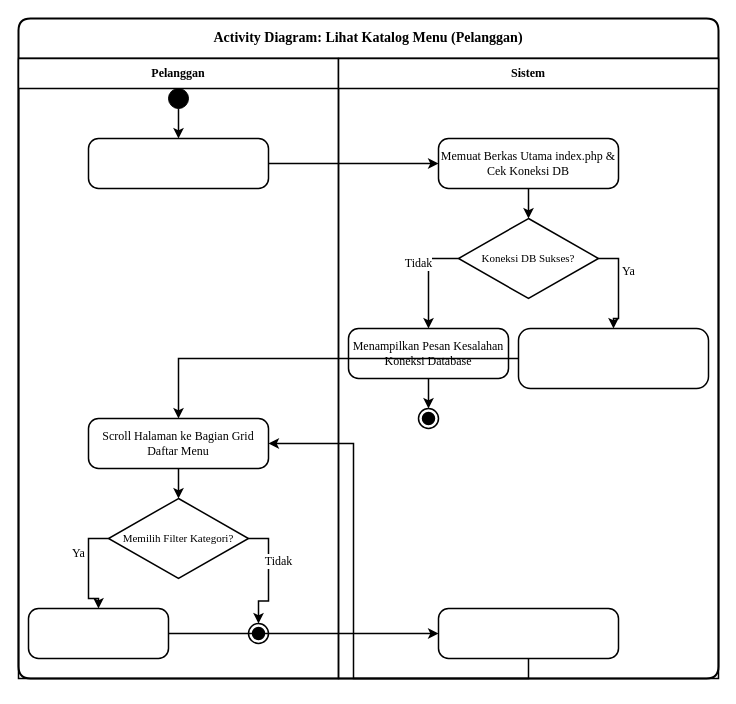
This 736x704 diagram has some shape labels left out. Here are the shapes that lost their labels. From the top down, the centre of each, then its label:
(178,163): Mengakses Alamat Website Ayam Penyet Al-Barokah
(613,358): Query Database & Menampilkan Landing Page Lengkap dengan Grid Kartu Menu
(98,633): Mengeklik Tombol Filter Kategori Menu
(528,633): Menyaring & Menyajikan Menu secara Interaktif (Javascript)
